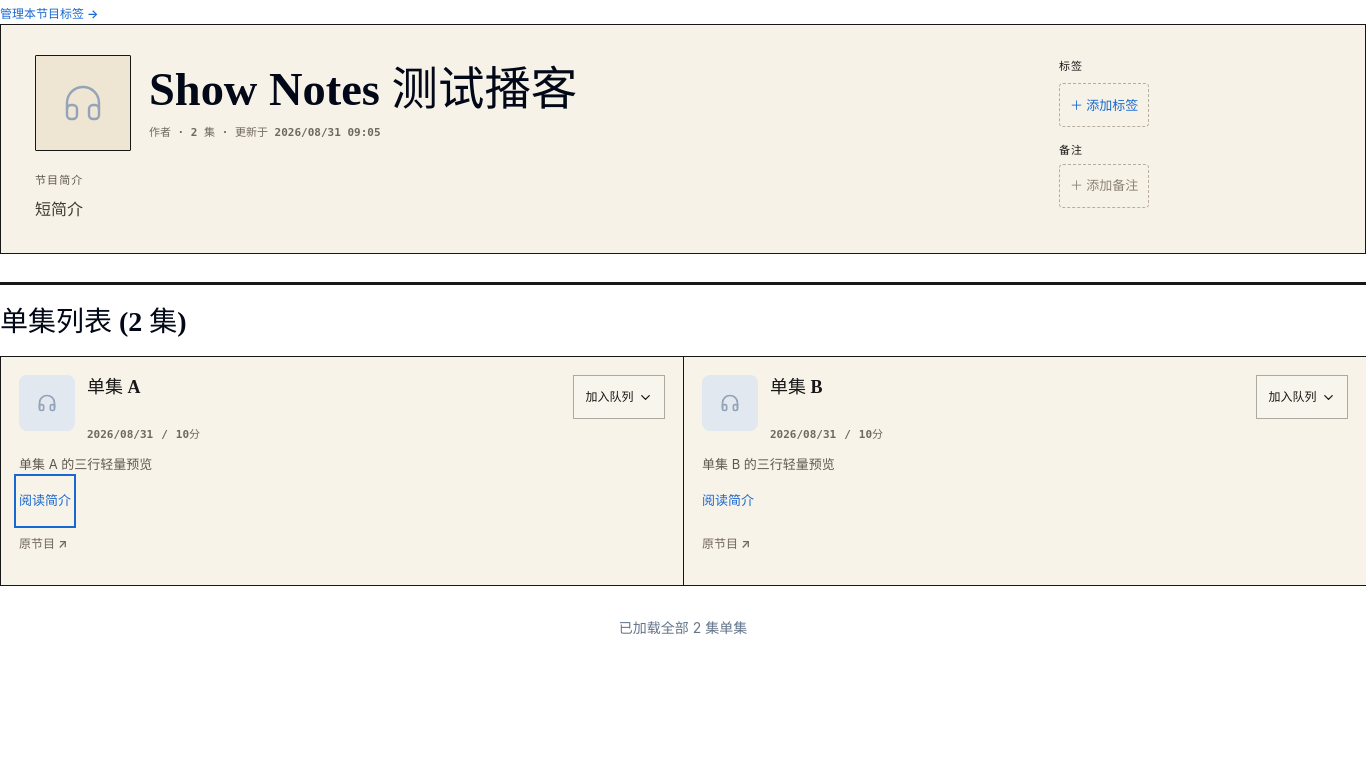
it: podcast detail Show Notes user flow › lets keyboard activation expand and collapse the same card
Press Enter in the button "阅读简介" below "单集 A 的三行轻量预览", box 19,478 -> 71,522
Click the button "阅读简介" below "单集 A 的三行轻量预览" at [45, 500], box 19,478 -> 71,522
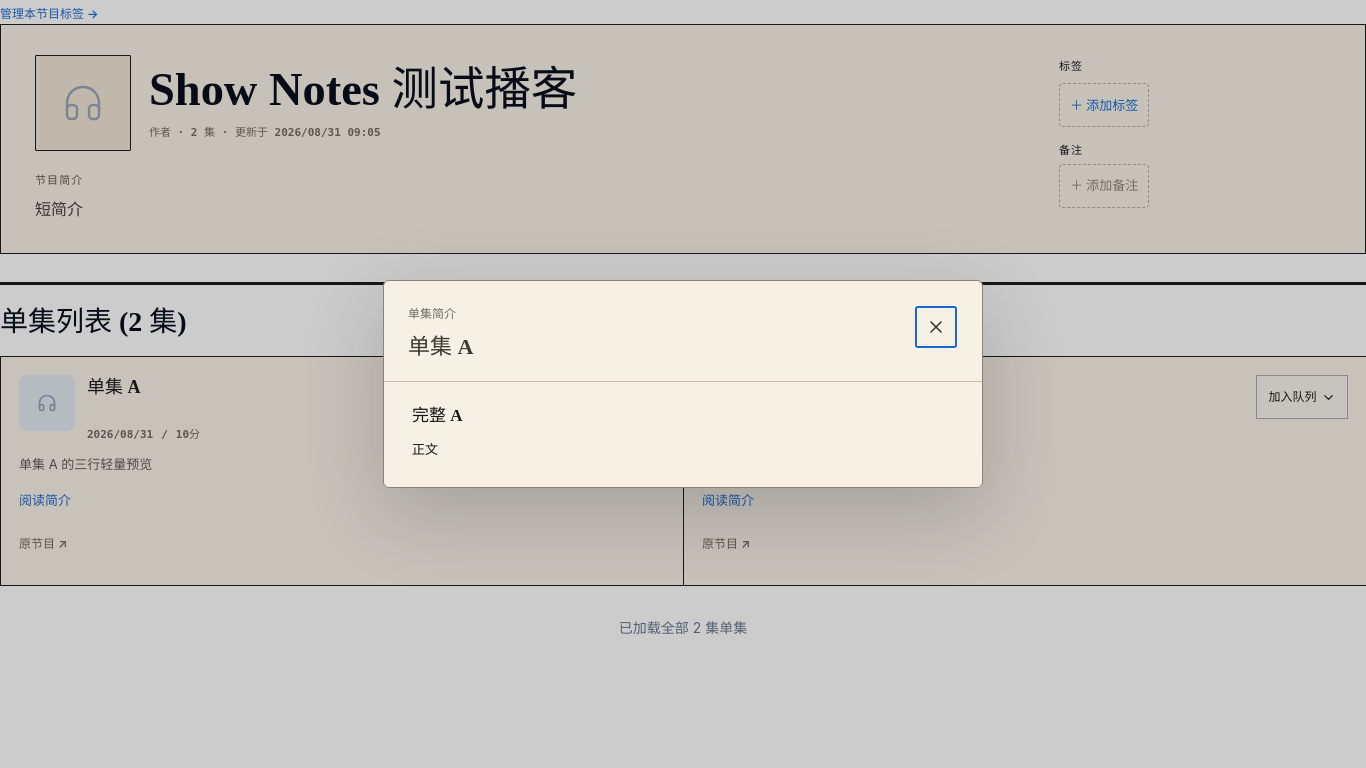
Expected: the heading "完整 A" is shown, 412,406 -> 462,425
Press Space in the button named "关闭简介", box 914,305 -> 958,349
Click the button named "关闭简介" at [936, 327], box 914,305 -> 958,349
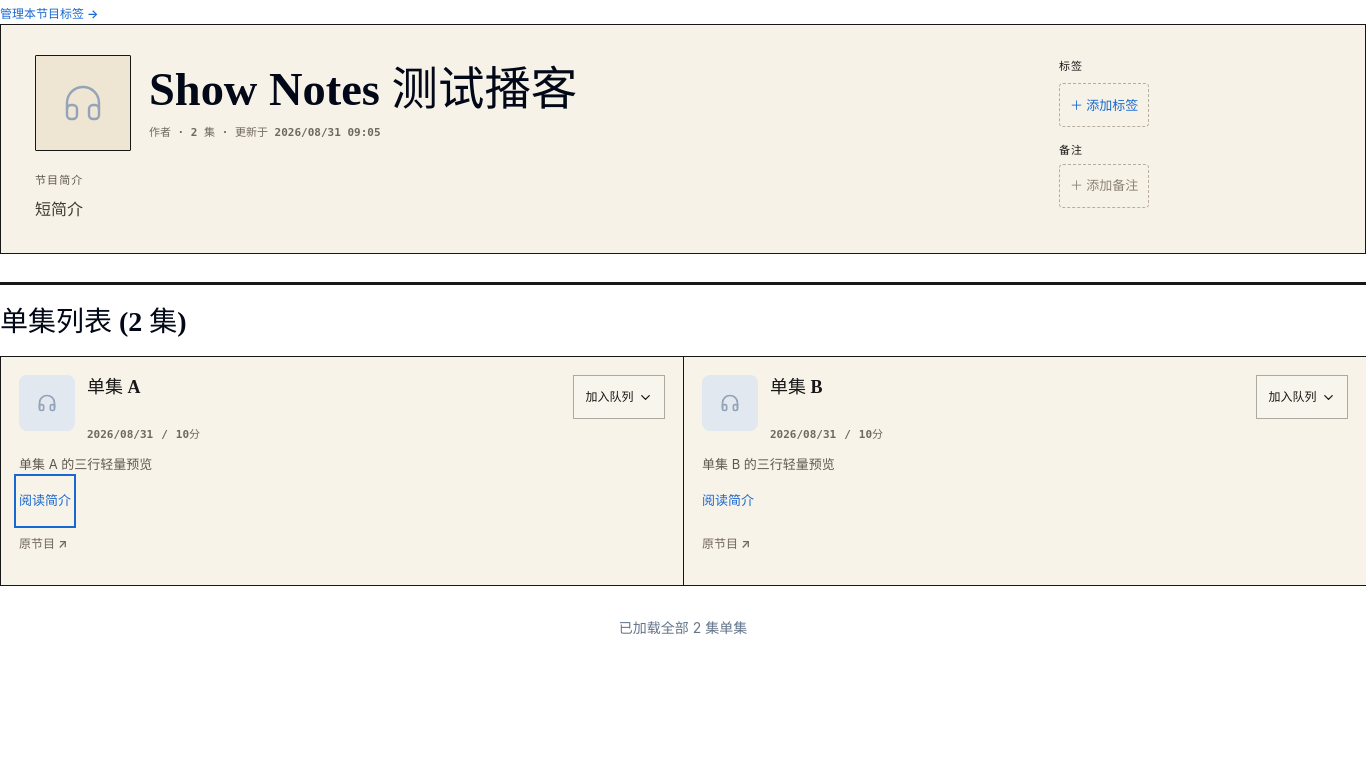
Expected: the dialog is gone
Expected: the heading "完整 A" is gone
